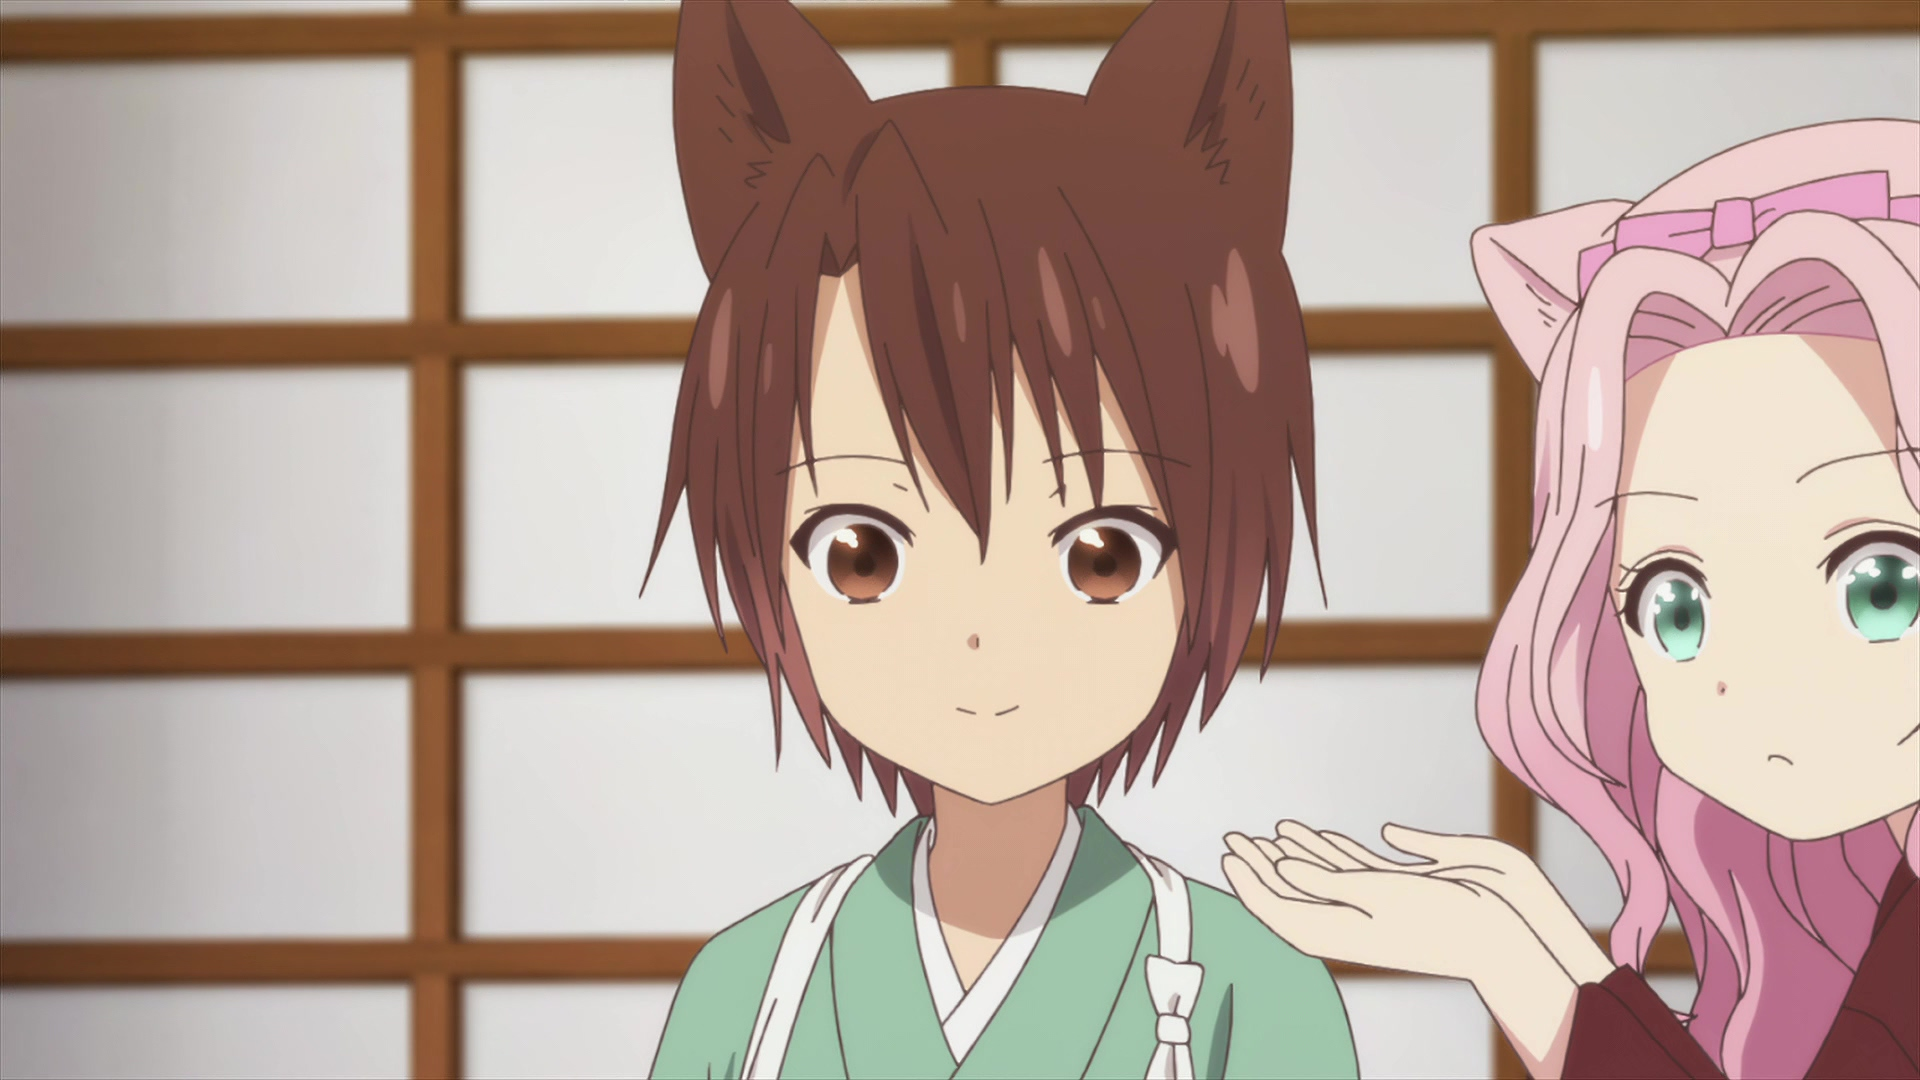枣: (638, 1, 1361, 1080)
莲: (1222, 115, 1920, 1080)
